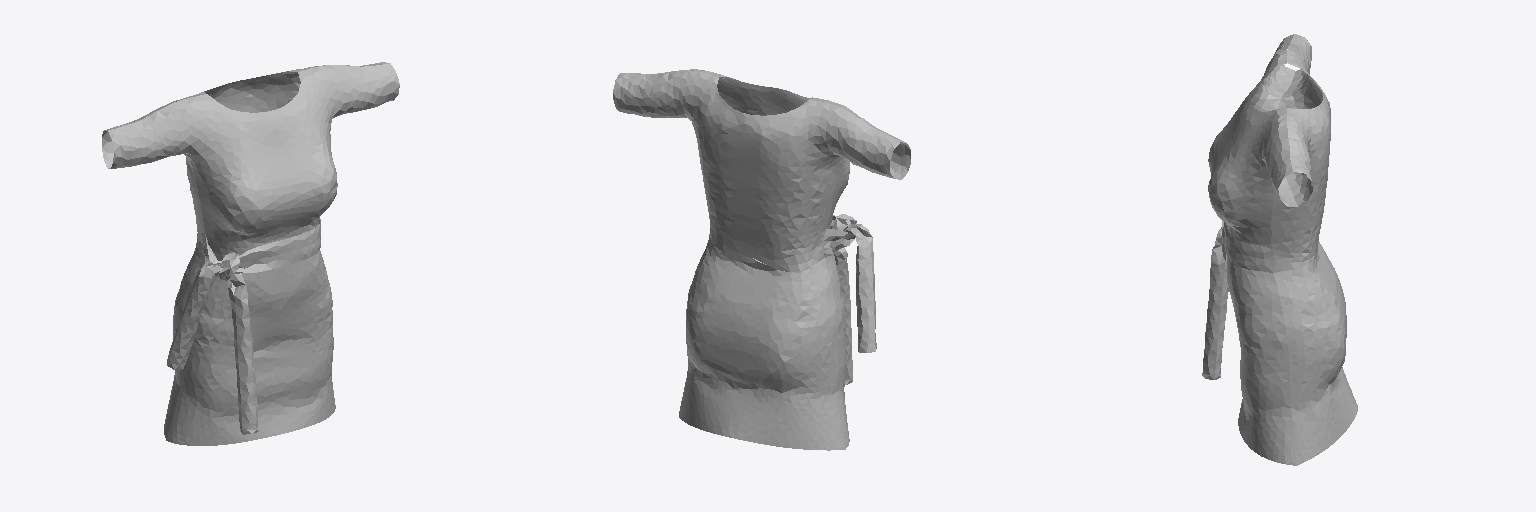
3 views of the same model, side by side, from view 1: azimuth 30°, elevation 25°; view 2: azimuth 150°, elevation 25°; view 3: azimuth 270°, elevation 25° (orthographic).
Parts seen in each view (by area): view 1: small_tiedDress_noinside:polySurface2 small_tiedDress_noinside:p; view 2: small_tiedDress_noinside:polySurface2 small_tiedDress_noinside:p; view 3: small_tiedDress_noinside:polySurface2 small_tiedDress_noinside:p.
Boxes of the visible parts, <box> form: small_tiedDress_noinside:polySurface2 small_tiedDress_noinside:p: <box>102,62,399,445</box>; small_tiedDress_noinside:polySurface2 small_tiedDress_noinside:p: <box>613,69,910,450</box>; small_tiedDress_noinside:polySurface2 small_tiedDress_noinside:p: <box>1202,34,1357,465</box>.
Bounding box in the file's own units: 6.45 × 7.36 × 3.05.
10 materials, 1 textured.